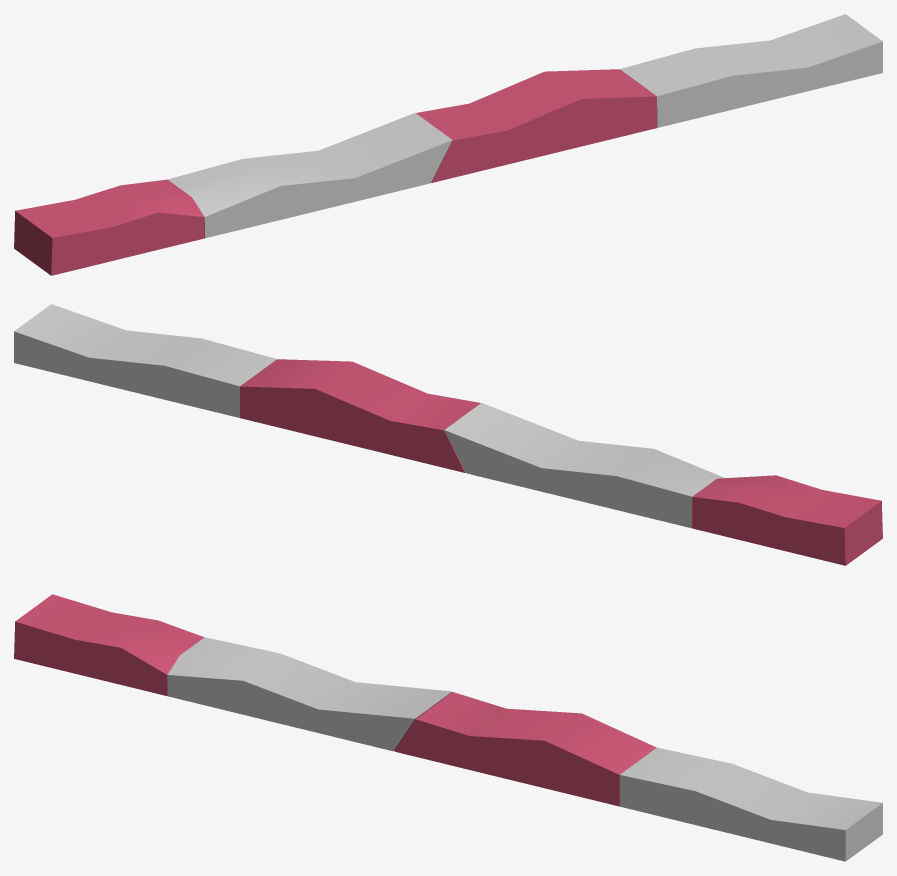
The model's file is Raseef.fbx.
3 views of the same model, one above another, from view 1: azimuth 30°, elevation 25°; view 2: azimuth 150°, elevation 25°; view 3: azimuth 330°, elevation 25° (orthographic).
Visible parts, largest first — view 1: pCube5.002; view 2: pCube5.002; view 3: pCube5.002.
Boxes of the visible parts, box(x1,y1,x2,y2) form: pCube5.002: box(14, 14, 882, 275); pCube5.002: box(14, 304, 882, 565); pCube5.002: box(14, 594, 882, 861).
Bounding box in the file's own units: 1287 × 70.33 × 100.
